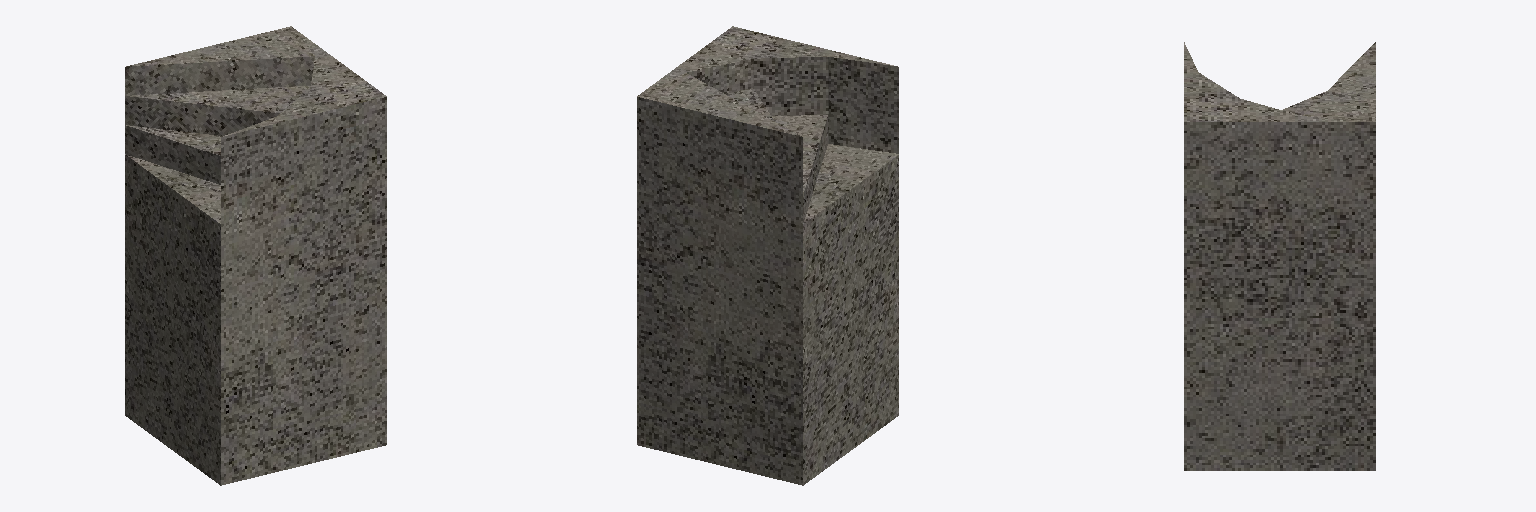
The picture shows the model from 3 angles: view 1: azimuth 30°, elevation 25°; view 2: azimuth 150°, elevation 25°; view 3: azimuth 270°, elevation 25°; orthographic projection.
Size of the model in its own units: 1 by 2 by 1.
1 materials, 1 textured.